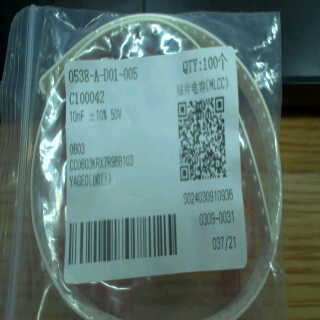10nF: (66, 109, 87, 124)
